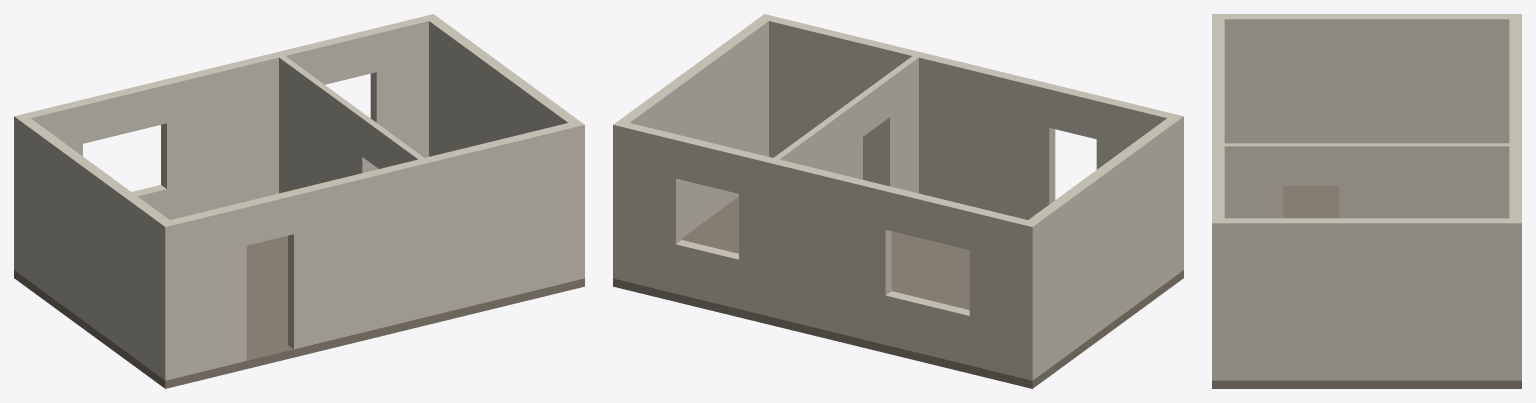
The model's file is editable-room-study.glb.
The picture shows the model from 3 angles, left to right: view 1: azimuth 30°, elevation 25°; view 2: azimuth 150°, elevation 25°; view 3: azimuth 270°, elevation 25°; orthographic projection. The views are drawn at different scales.
Parts seen in each view (by area): view 1: South wall.001, West wall, North wall.001, South wall, East wall, Floor slab, Partition wall.001, North wall.002, Window 1 lintel, Window 2 lintel, North wall, Entrance lintel (+3 smaller); view 2: South wall.001, North wall.001, West wall, East wall, Floor slab, North wall, North wall.002, Window 1 sill wall, Partition wall, Partition wall.001, South wall, Window 1 lintel (+4 smaller); view 3: East wall, West wall, Partition wall.001, Floor slab, Partition wall, South wall.001, North wall.002, Partition door lintel, North wall.001, Window 1 lintel, South wall, North wall (+2 smaller).
Part boxes in pixels (bbox=[...]): South wall.001: bbox=[288, 120, 584, 349]; West wall: bbox=[20, 118, 169, 375]; North wall.001: bbox=[161, 44, 313, 219]; South wall: bbox=[159, 203, 246, 380]; East wall: bbox=[429, 18, 578, 156]; Floor slab: bbox=[14, 235, 584, 388]; Partition wall.001: bbox=[279, 56, 368, 193]; North wall.002: bbox=[370, 14, 439, 169]; Window 1 lintel: bbox=[77, 80, 166, 143]; Window 2 lintel: bbox=[308, 29, 376, 84]; North wall: bbox=[14, 101, 82, 273]; Entrance lintel: bbox=[241, 191, 293, 245]; South wall.001: bbox=[758, 14, 1055, 219]; North wall.001: bbox=[739, 151, 891, 344]; West wall: bbox=[1028, 118, 1177, 375]; East wall: bbox=[619, 18, 768, 237]; Floor slab: bbox=[613, 197, 1183, 388]; North wall: bbox=[969, 207, 1038, 380]; North wall.002: bbox=[613, 120, 681, 293]; Window 1 sill wall: bbox=[885, 291, 969, 365]; Partition wall: bbox=[883, 56, 918, 193]; Partition wall.001: bbox=[773, 97, 862, 179]; South wall: bbox=[1096, 96, 1183, 273]; Window 1 lintel: bbox=[885, 187, 974, 249]; East wall: bbox=[1224, 218, 1509, 380]; West wall: bbox=[1224, 14, 1509, 143]; Partition wall.001: bbox=[1339, 143, 1509, 218]; Floor slab: bbox=[1212, 185, 1521, 388]; Partition wall: bbox=[1224, 143, 1283, 218]; South wall.001: bbox=[1212, 78, 1224, 380]; North wall.002: bbox=[1509, 192, 1521, 380]; Partition door lintel: bbox=[1283, 143, 1338, 185]; North wall.001: bbox=[1509, 87, 1521, 160]; Window 1 lintel: bbox=[1509, 45, 1521, 87]; South wall: bbox=[1212, 14, 1224, 54]; North wall: bbox=[1509, 14, 1521, 45].
Bounding box in the file's own units: 8 × 2.95 × 5.
